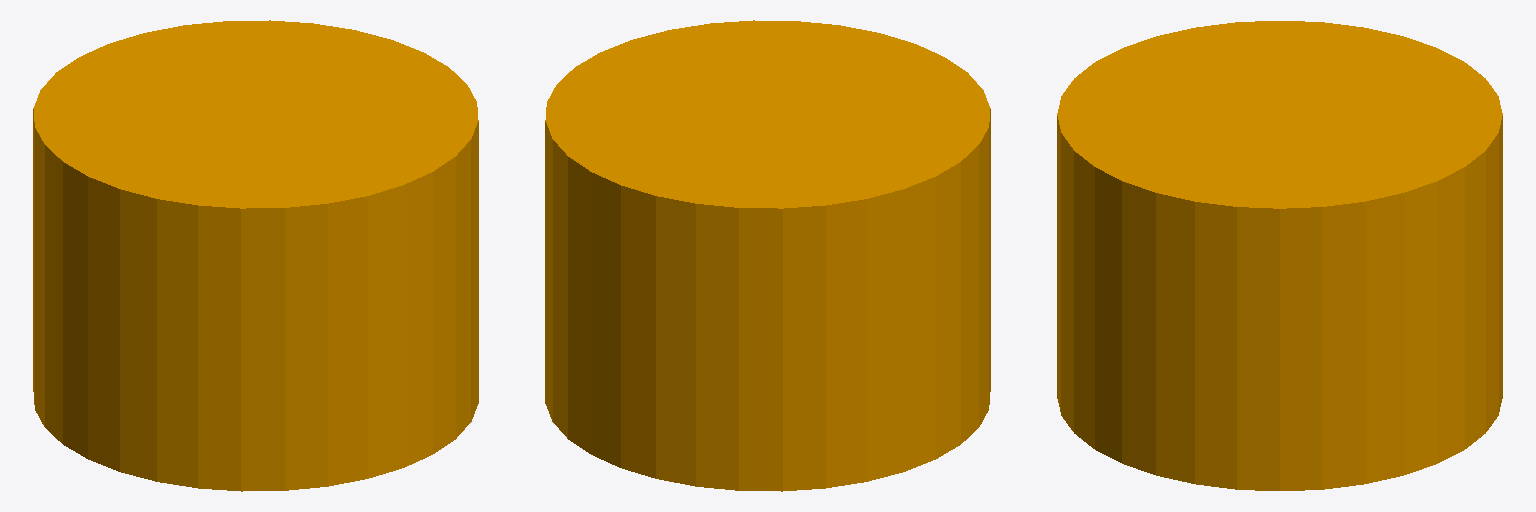
URDF robot description (object):
<?xml version="1.0"?>
<robot name="object">
  <link name="object">
    <visual>
      <origin xyz="0 0 0"/>
      <geometry>
        <cylinder radius="0.025" length="0.035"/>
      </geometry>
    </visual>

    <collision>
      <origin xyz="0 0 0"/>
      <geometry>
        <cylinder radius="0.025" length="0.035"/>
      </geometry>
    </collision>

    <inertial>
      <mass value="0.05" />
      <inertia ixx="1.2917e-5" ixy="0.0" ixz="0.0" iyy="1.2917e-5" iyz="0.0" izz="1.5625e-5"/>
    </inertial>
  </link>
</robot>

--- Render facts (derived) ---
3 views of the same robot in one strip: view 1: azimuth 30°, elevation 25°; view 2: azimuth 150°, elevation 25°; view 3: azimuth 270°, elevation 25° (orthographic).
Robot: object — 1 links, 0 joints (none); root link object; default pose: every joint at zero.
Links seen in each view (by area): view 1: object; view 2: object; view 3: object.
Boxes of the visible links, bbox=[...] form: object: bbox=[33, 20, 478, 491]; object: bbox=[545, 20, 990, 491]; object: bbox=[1057, 21, 1502, 490].
Size in the robot's own frame: 0.05 by 0.05 by 0.035 metres.
Geometry: primitives only (box / cylinder / sphere), no mesh files.
